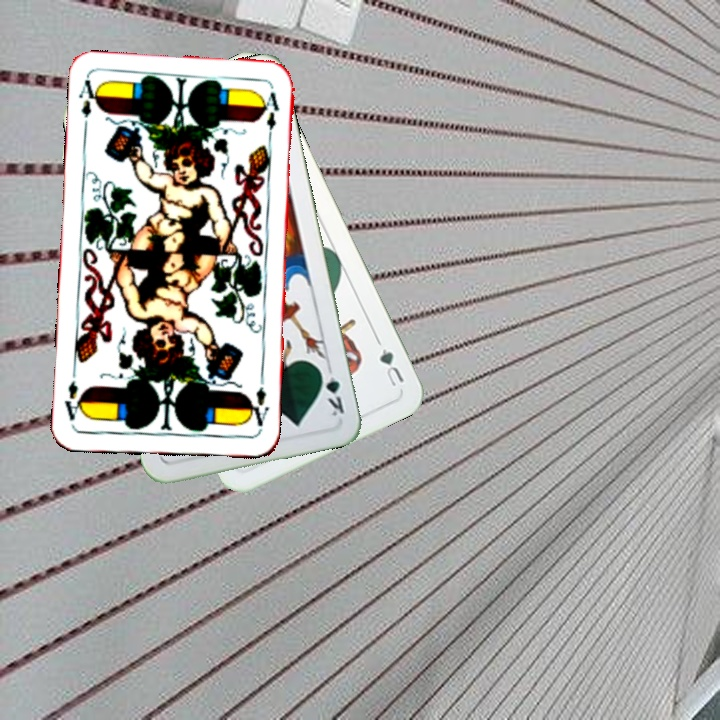EA: (74, 75, 102, 134), (245, 374, 271, 433)
GK: (316, 361, 347, 420)
GU: (375, 344, 407, 390)
